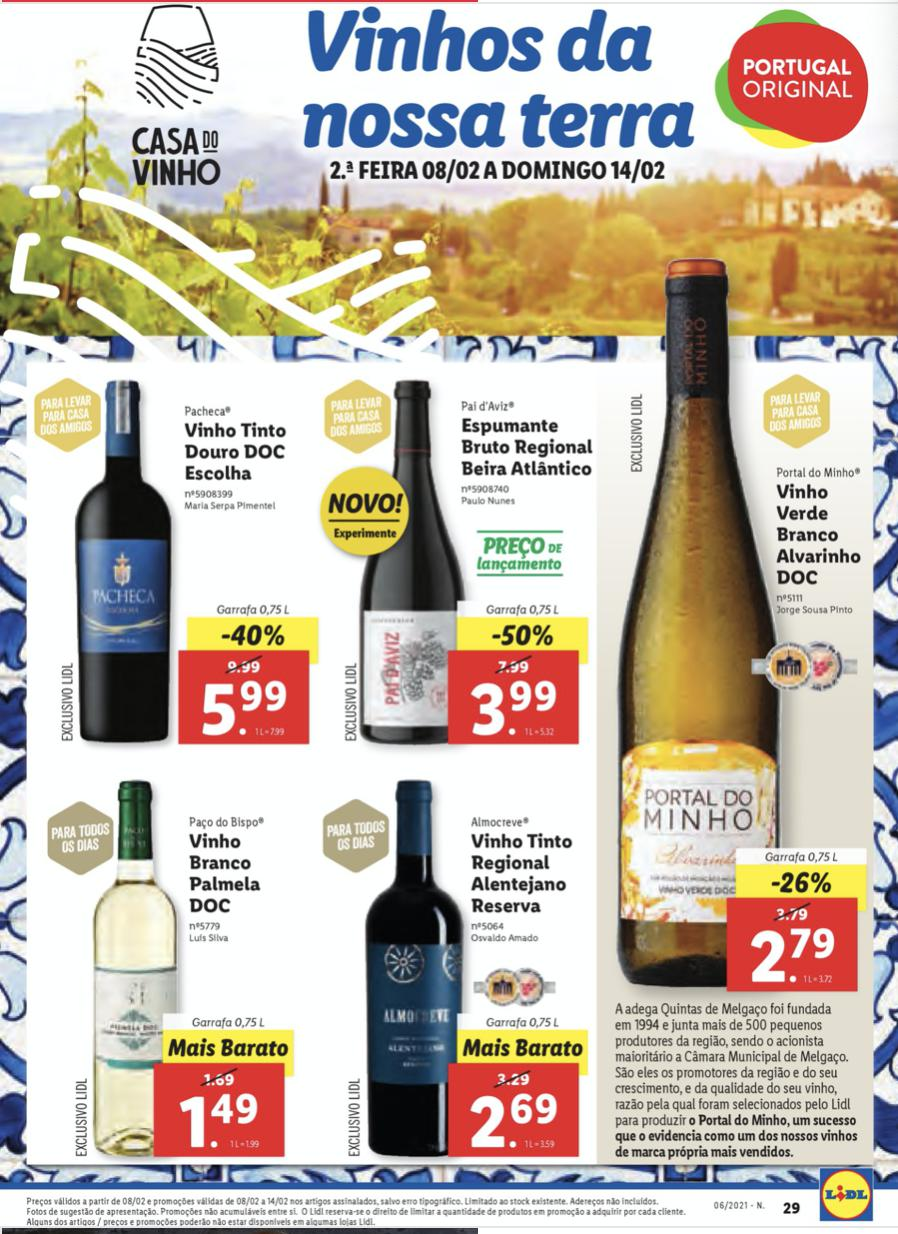name: (766, 479, 866, 588), (464, 830, 577, 921), (457, 415, 595, 481), (178, 416, 293, 485), (183, 830, 267, 918)
price: (463, 1087, 572, 1158), (738, 921, 850, 988), (173, 1085, 272, 1158), (466, 676, 564, 745), (200, 675, 297, 744)
product: (606, 364, 869, 998), (295, 758, 589, 1162), (318, 372, 598, 758), (37, 758, 295, 1162), (37, 384, 313, 758)
promotion: (766, 867, 840, 901), (487, 618, 558, 652), (218, 618, 290, 650)
